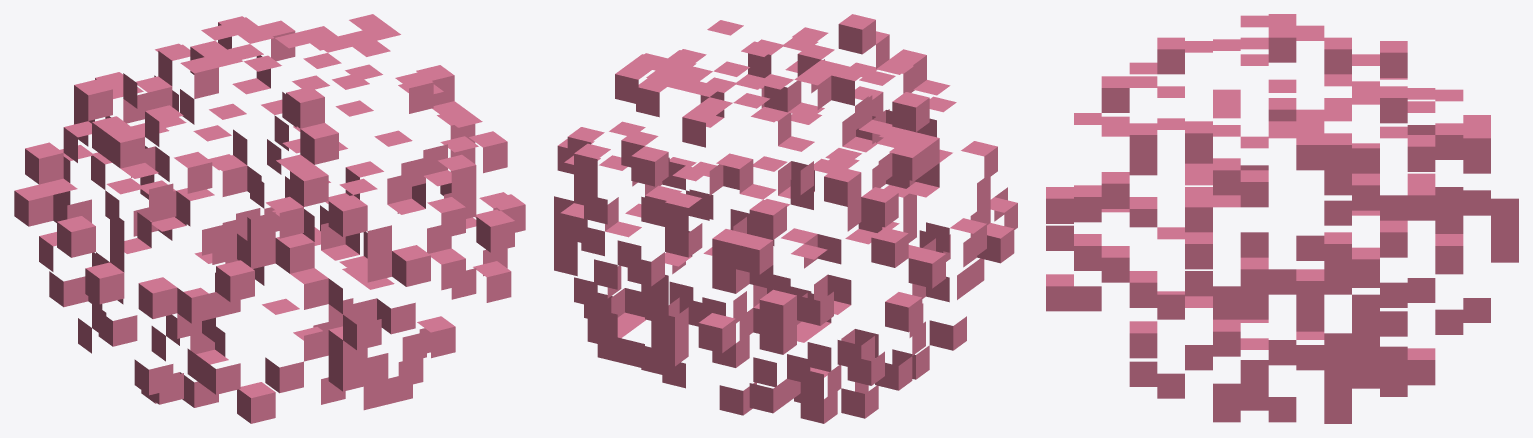
File: tree-cherry-1p25-pink2-e77fa0.gltf
3 renders of one model, left to right at view 1: azimuth 30°, elevation 25°; view 2: azimuth 150°, elevation 25°; view 3: azimuth 270°, elevation 25°, orthographic. The views are drawn at different scales.
Visible parts, largest first — view 1: tree-cherry-1p25-pink2-e77fa0; view 2: tree-cherry-1p25-pink2-e77fa0; view 3: tree-cherry-1p25-pink2-e77fa0.
Part boxes in pixels (x1,y1,x2,y2): tree-cherry-1p25-pink2-e77fa0: (14,14,525,423); tree-cherry-1p25-pink2-e77fa0: (554,14,1017,423); tree-cherry-1p25-pink2-e77fa0: (1046,14,1518,423).
Bounding box in the file's own units: 17 × 13 × 17.
